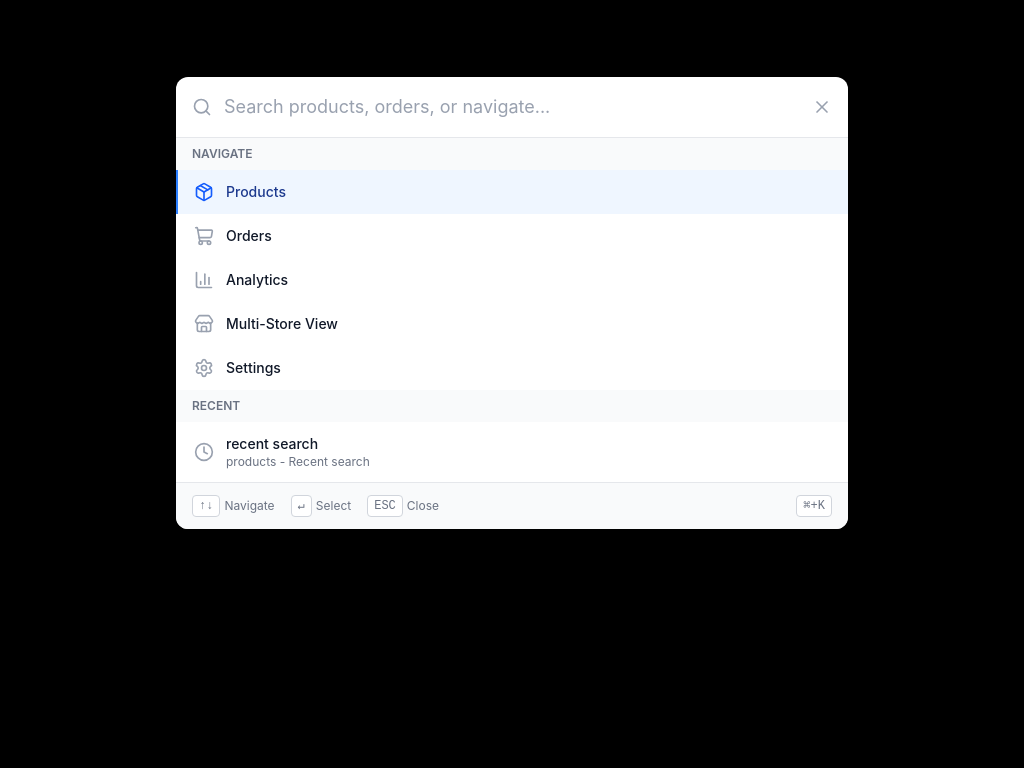
Test: QuickSwitcher › Search Functionality › should search orders when typing order ID
Type "101" into the field with placeholder "Search products, orders, or navigate..." at (512, 107), box top-left (224, 93), bottom-right (800, 121)
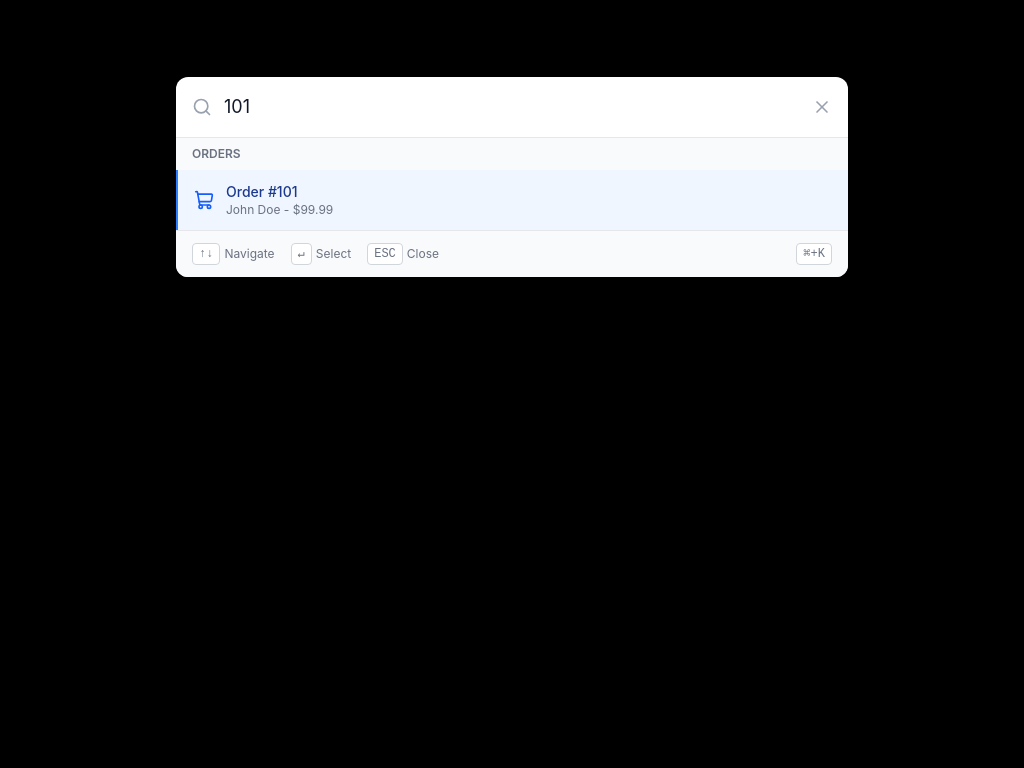
expect the text "Order #101" is shown: met, box top-left (226, 183), bottom-right (298, 200)
